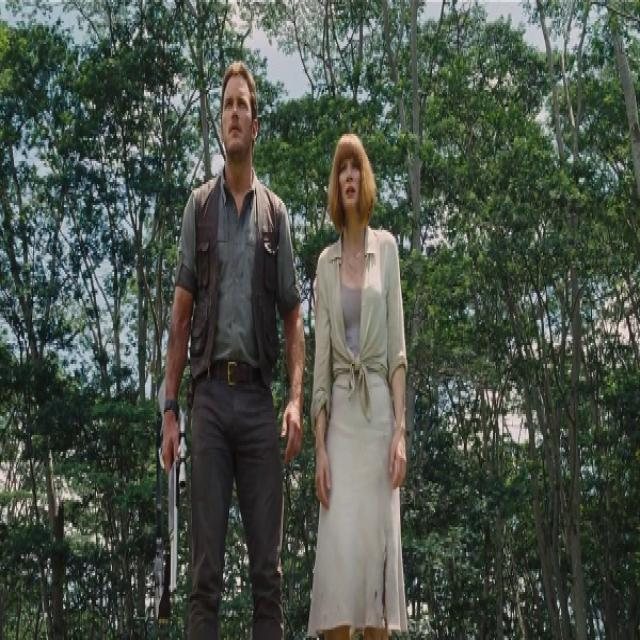rifle: (159, 381, 187, 600)
